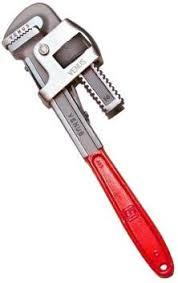wrench: (0, 0, 175, 279)
